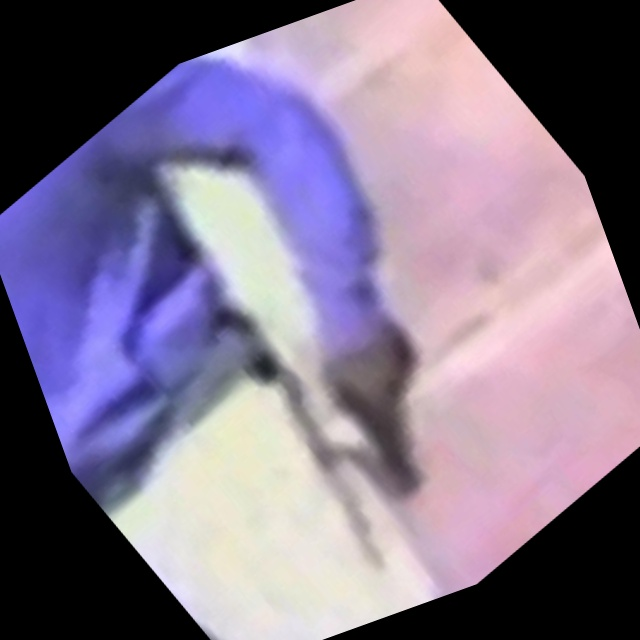gun: (266, 299, 513, 551)
